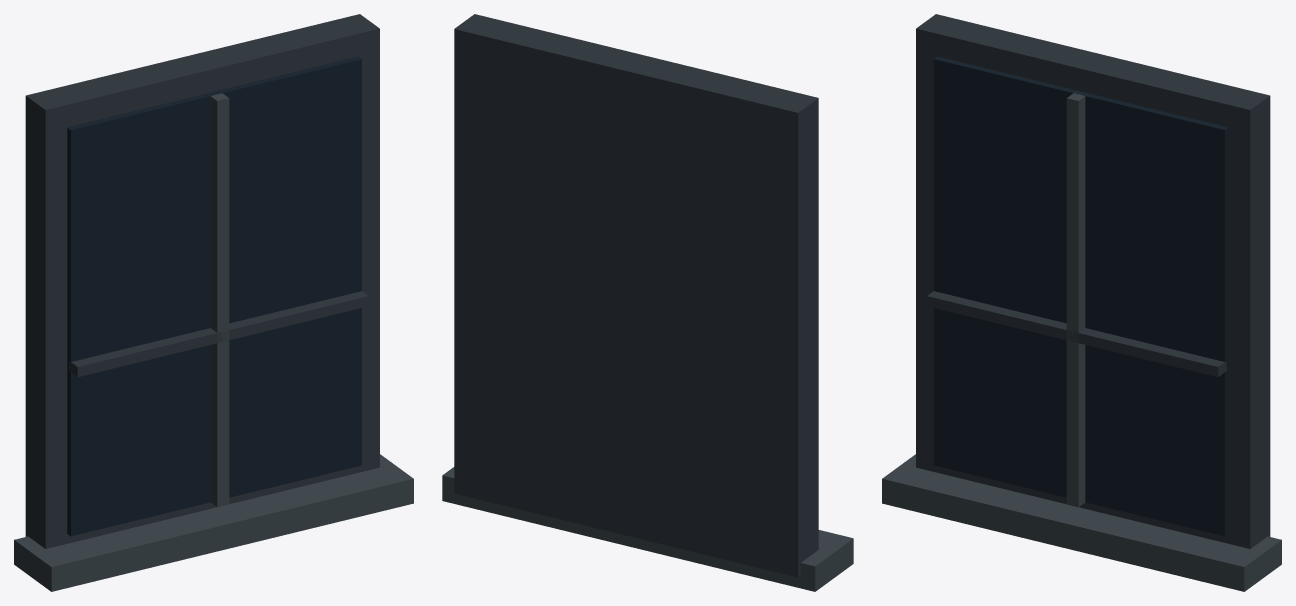
Rendered from la-window.glb.
3 views of the same model, side by side, from view 1: azimuth 30°, elevation 25°; view 2: azimuth 150°, elevation 25°; view 3: azimuth 330°, elevation 25° (orthographic). The views are drawn at different scales.
Parts seen in each view (by area): view 1: la-window; view 2: la-window; view 3: la-window.
Boxes of the visible parts, left/top/right/bottom form: la-window: left=14, top=14, right=413, bottom=591; la-window: left=442, top=14, right=853, bottom=591; la-window: left=882, top=14, right=1281, bottom=591.
Size of the model in its own units: 1.68 by 2.06 by 0.32.
